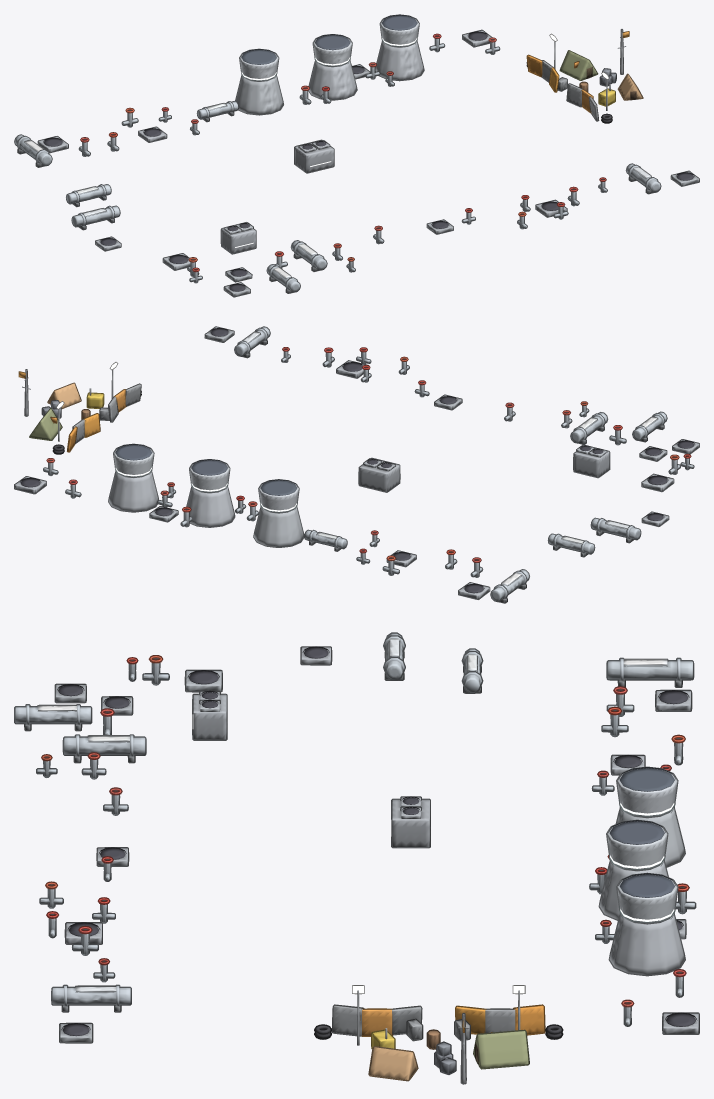
Rendered from coolant_vaults.glb.
The picture shows the model from 3 angles, top to bottom: view 1: azimuth 30°, elevation 25°; view 2: azimuth 150°, elevation 25°; view 3: azimuth 270°, elevation 25°; orthographic projection. The views are drawn at different scales.
Parts seen in each view (by area): view 1: Baked_matte, Baked_metal, Baked_matte_Outline, Baked_metal_Outline, Baked_satin, Baked_satin_Outline; view 2: Baked_matte, Baked_metal, Baked_matte_Outline, Baked_metal_Outline, Baked_satin, Baked_satin_Outline; view 3: Baked_matte, Baked_metal, Baked_matte_Outline, Baked_metal_Outline, Baked_satin, Baked_satin_Outline.
Part boxes in pixels (bbox=[...]): Baked_matte: bbox=[25, 15, 699, 296]; Baked_metal: bbox=[15, 30, 660, 293]; Baked_matte_Outline: bbox=[24, 14, 699, 297]; Baked_metal_Outline: bbox=[14, 29, 661, 293]; Baked_satin: bbox=[43, 31, 693, 291]; Baked_satin_Outline: bbox=[43, 31, 694, 287]; Baked_matte: bbox=[14, 327, 699, 599]; Baked_metal: bbox=[22, 327, 693, 602]; Baked_matte_Outline: bbox=[14, 326, 699, 599]; Baked_metal_Outline: bbox=[24, 326, 694, 603]; Baked_satin: bbox=[19, 328, 694, 593]; Baked_satin_Outline: bbox=[18, 328, 694, 588]; Baked_matte: bbox=[38, 638, 698, 1079]; Baked_metal: bbox=[15, 633, 694, 1083]; Baked_matte_Outline: bbox=[37, 637, 699, 1081]; Baked_metal_Outline: bbox=[14, 632, 696, 1084]; Baked_satin: bbox=[58, 647, 695, 1036]; Baked_satin_Outline: bbox=[57, 646, 697, 1036].
Size of the model in its own units: 41.12 by 3.32 by 27.29.
